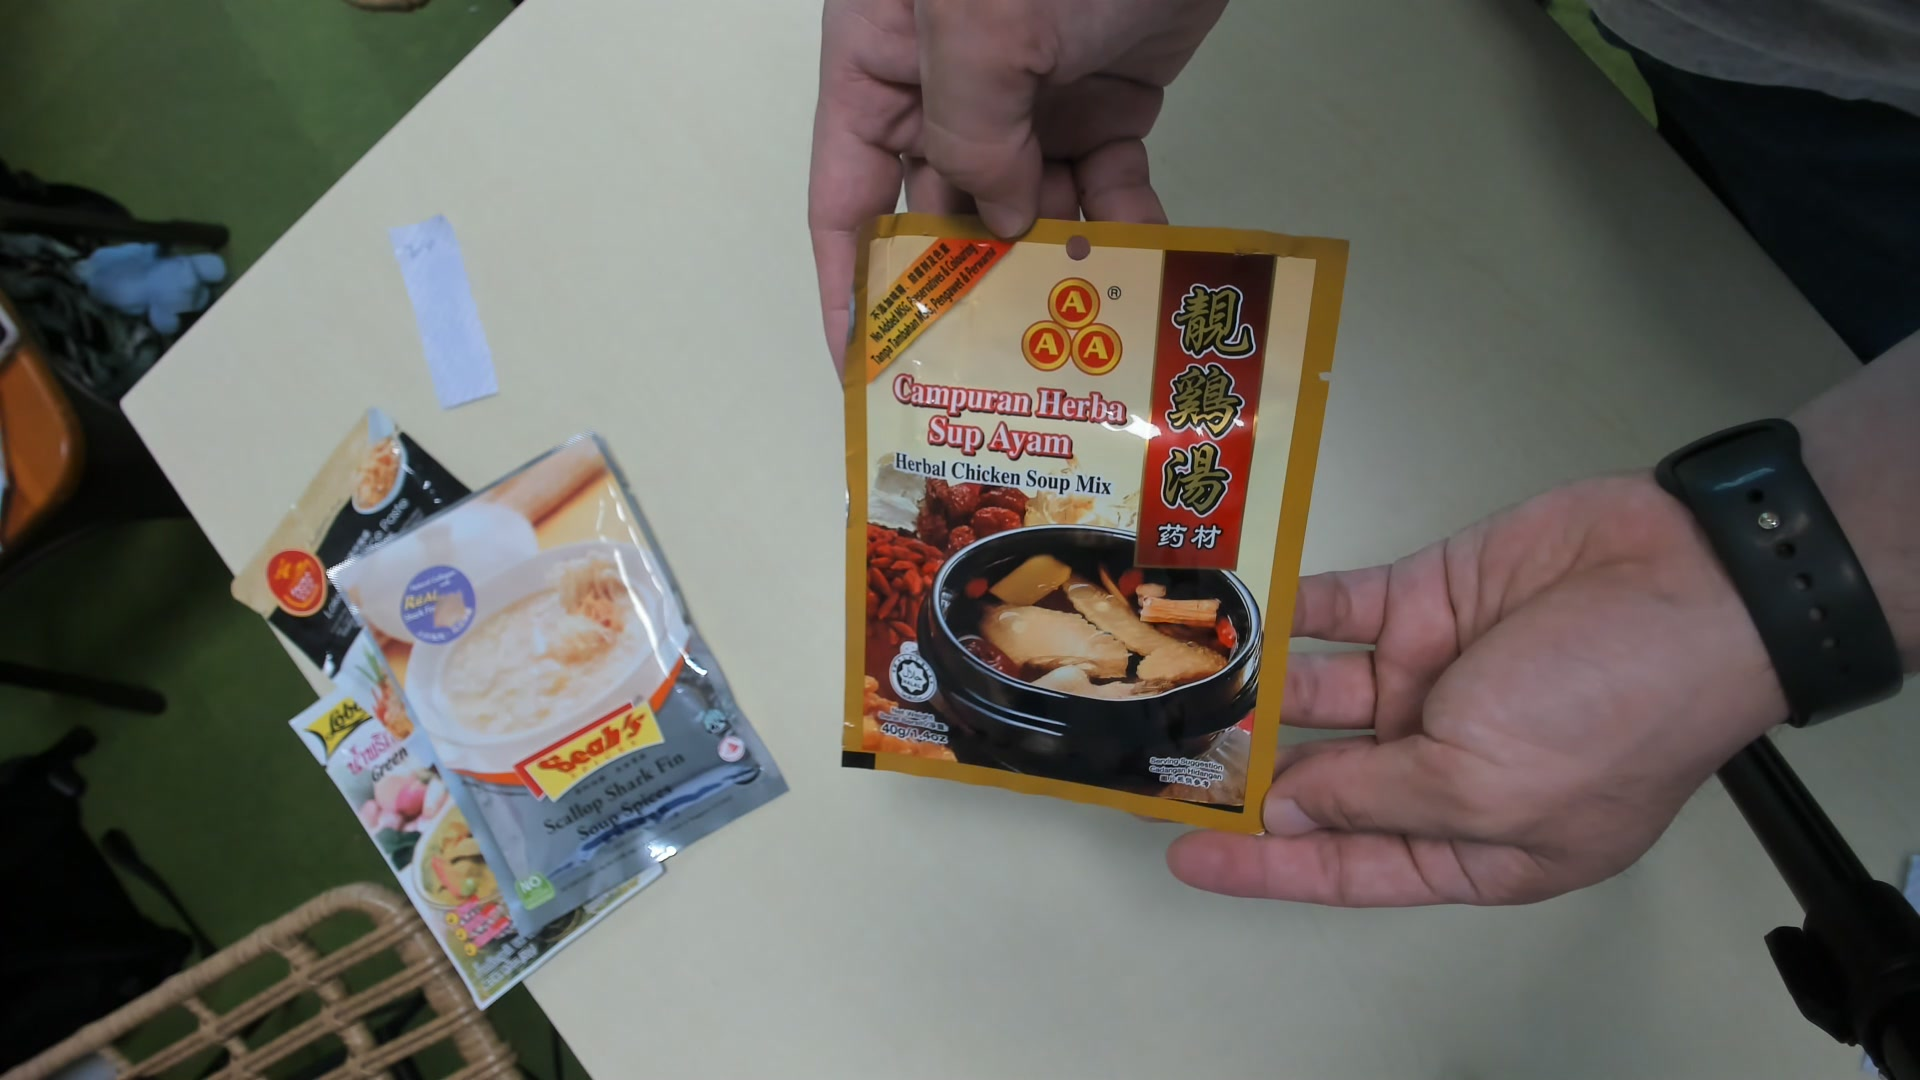OtherSauceDressing_0-99g_Halal_NonHealthy: (831, 207, 1335, 825)
